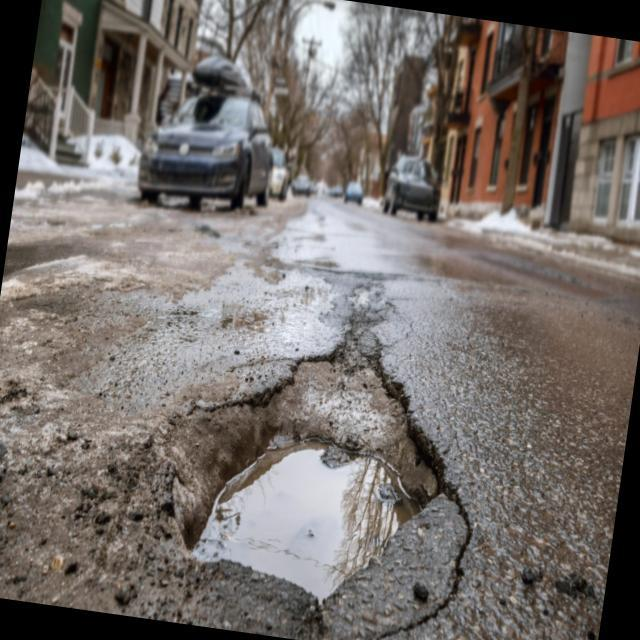Pothole: (169, 308, 473, 640)
